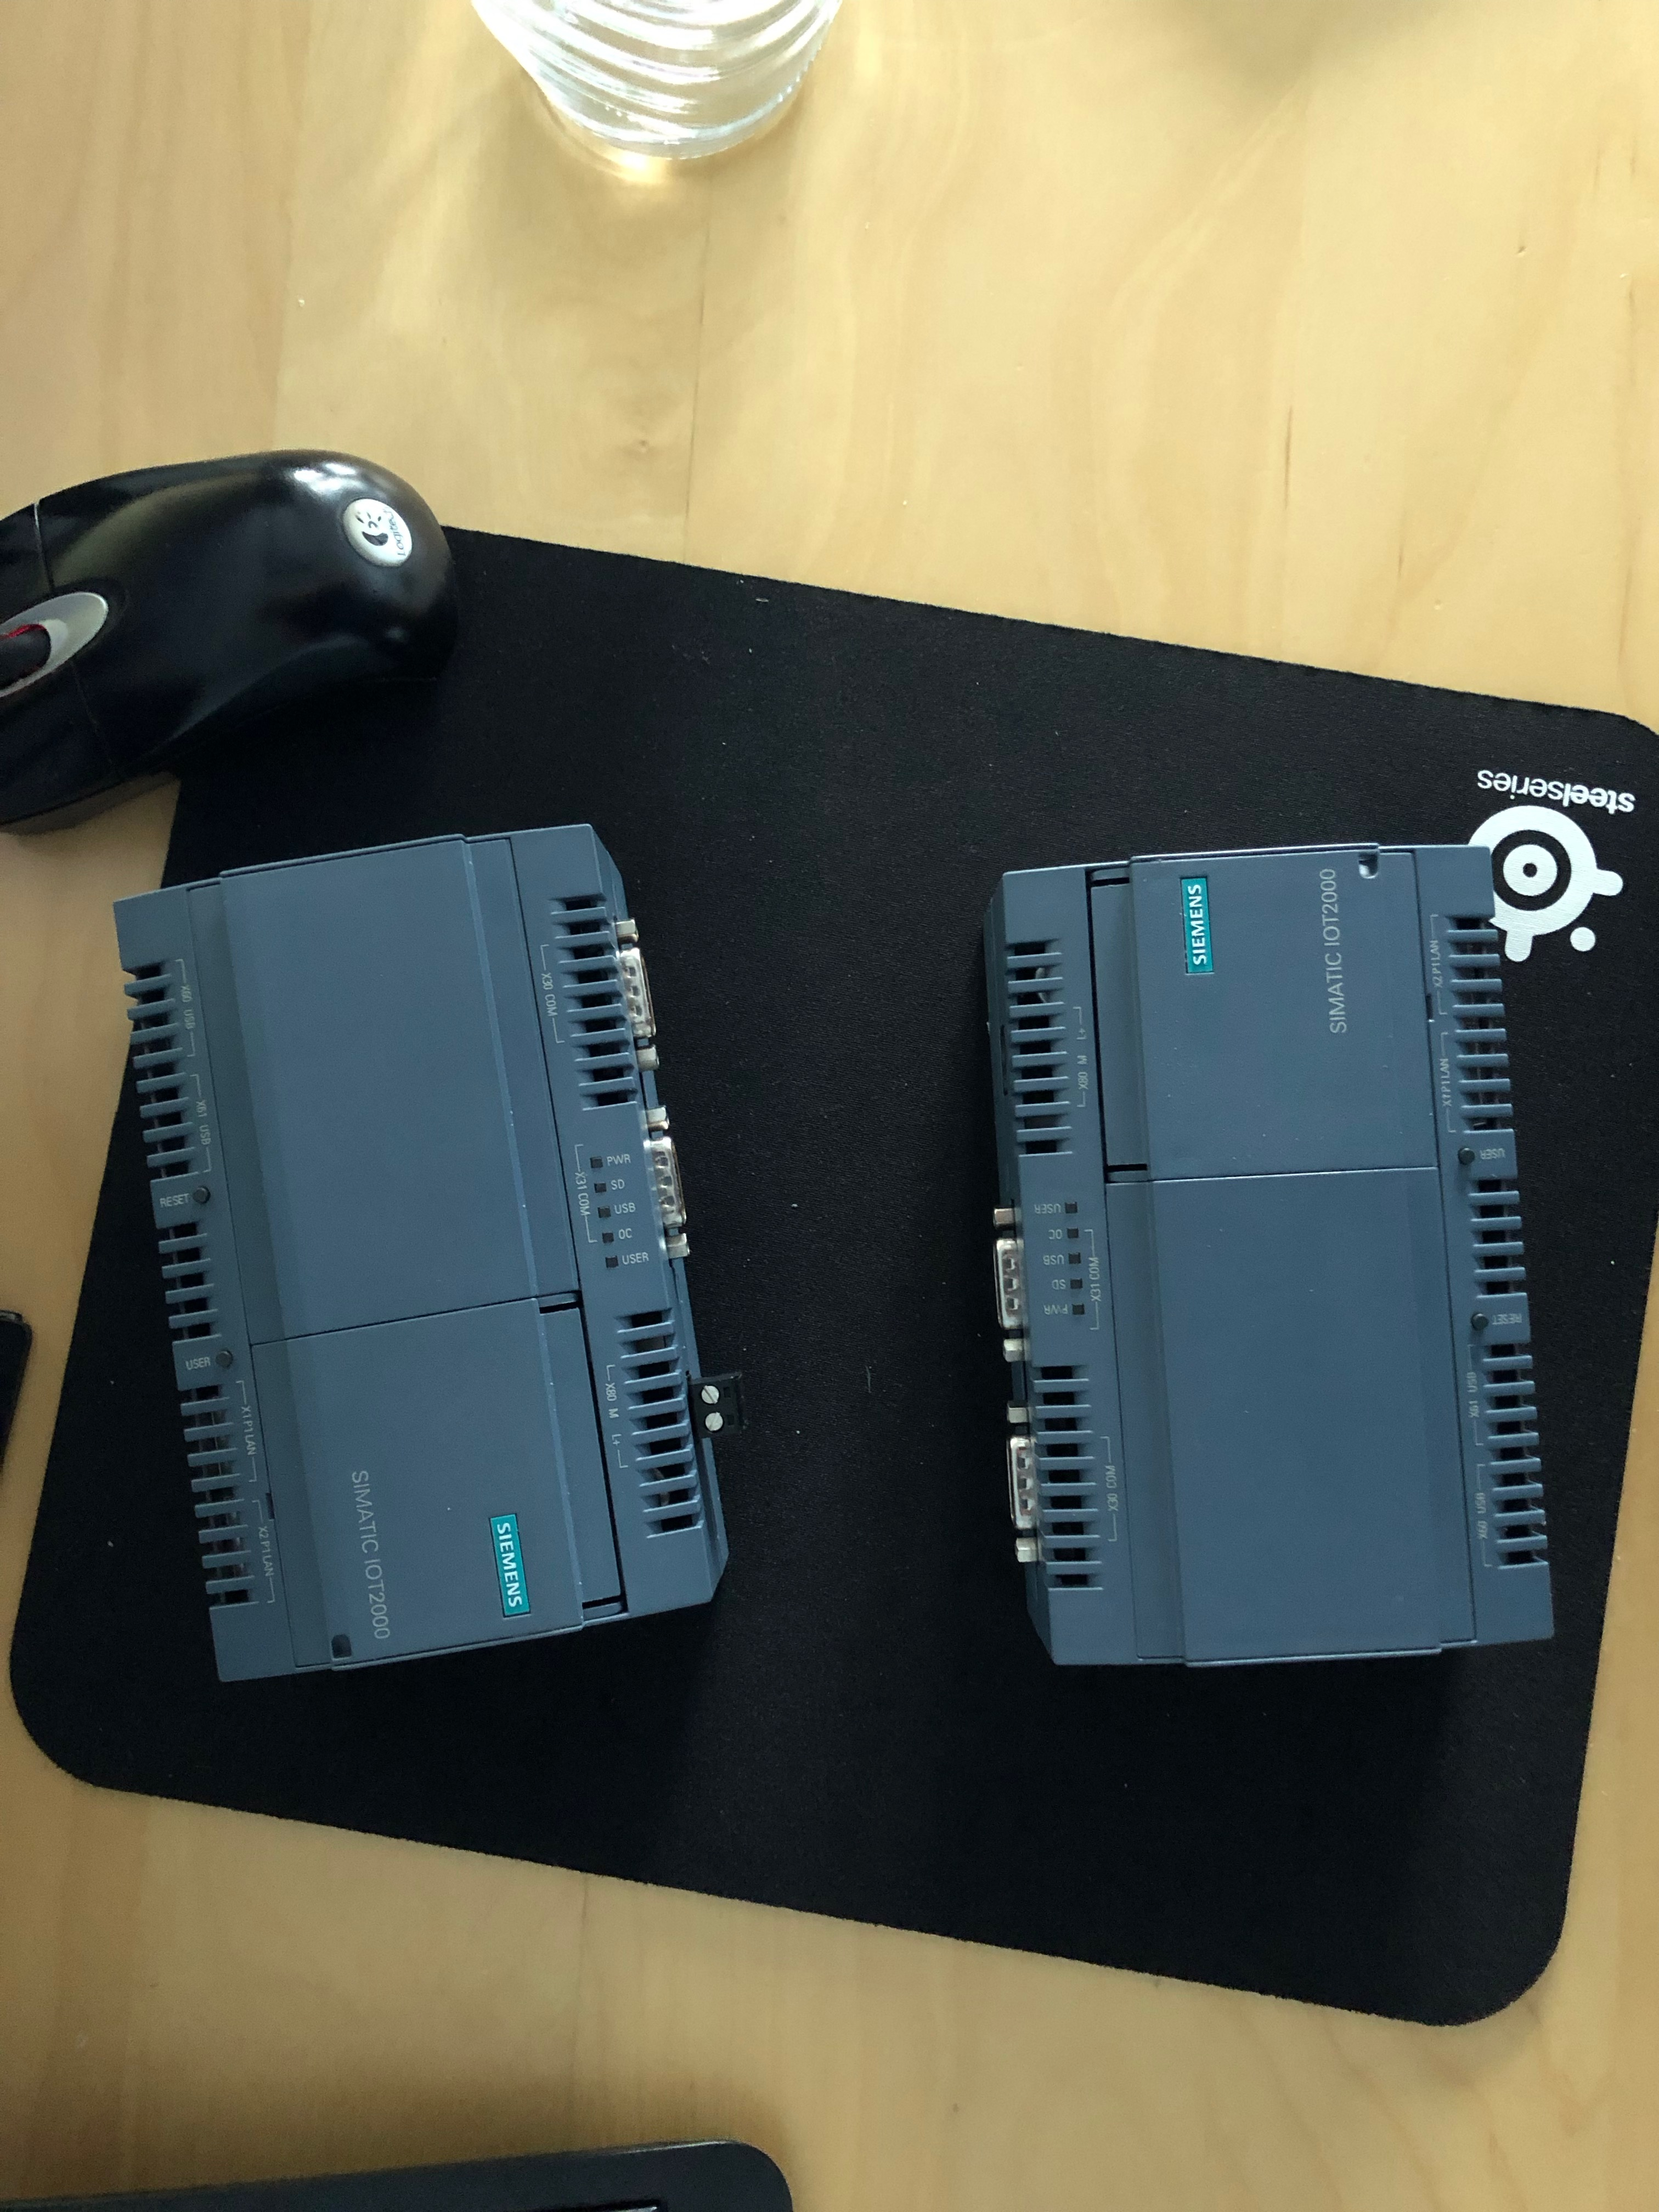device: (113, 824, 746, 1684), (983, 843, 1554, 1669)
